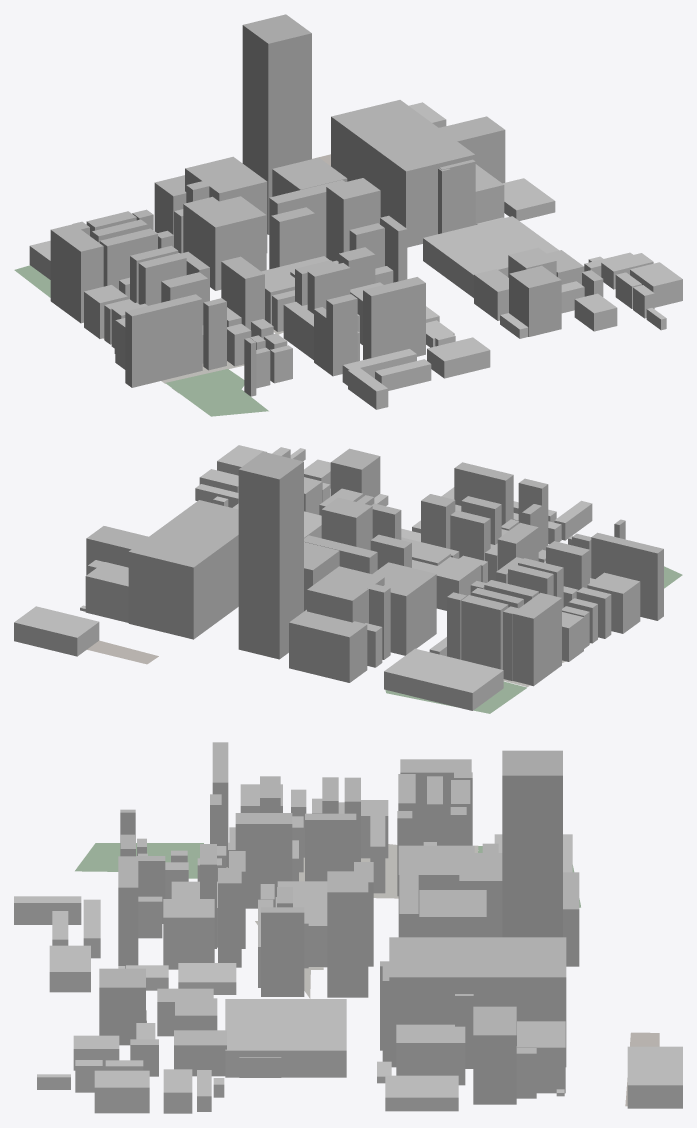
File: 120_101_mid.glb
The picture shows the model from 3 angles, top to bottom: view 1: azimuth 30°, elevation 25°; view 2: azimuth 150°, elevation 25°; view 3: azimuth 270°, elevation 25°; orthographic projection. The views are drawn at different scales.
Size of the model in its own units: 549 by 201 by 538.
